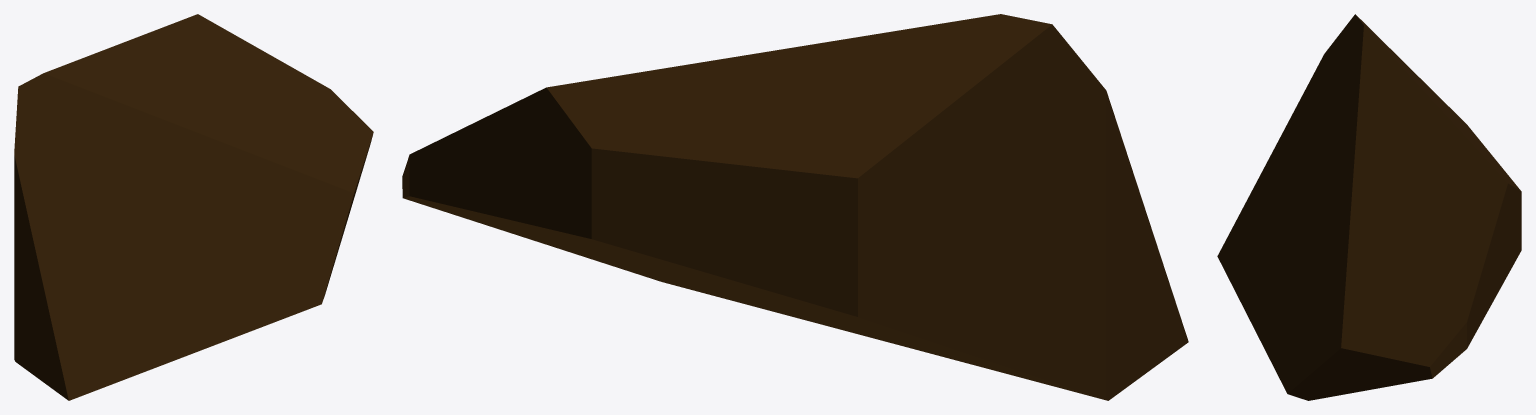
Rendered from Debris4.glb.
The picture shows the model from 3 angles, left to right: view 1: azimuth 30°, elevation 25°; view 2: azimuth 150°, elevation 25°; view 3: azimuth 270°, elevation 25°; orthographic projection. The views are drawn at different scales.
Parts seen in each view (by area): view 1: Cylinder_cell.001; view 2: Cylinder_cell.001; view 3: Cylinder_cell.001.
Boxes of the visible parts, x1,y1,x2,y2 form: Cylinder_cell.001: (14,14,373,400); Cylinder_cell.001: (402,14,1188,400); Cylinder_cell.001: (1217,14,1521,400).
Size of the model in its own units: 1.84 by 1.11 by 1.2.
